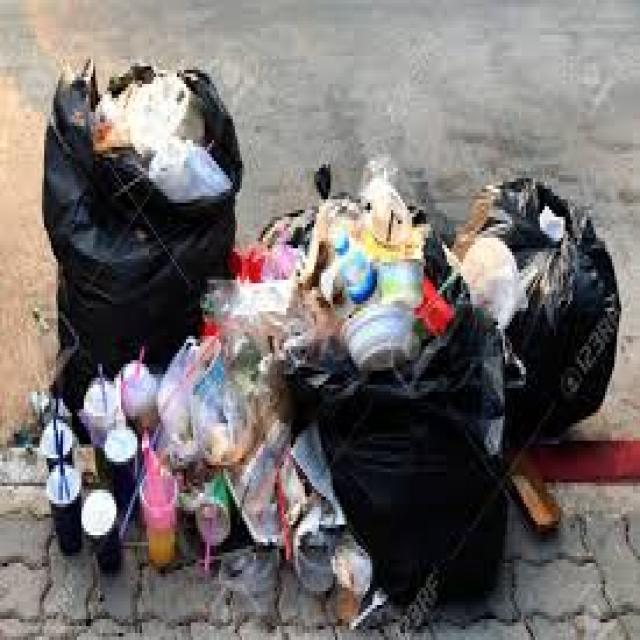plastic_bag: (46, 81, 225, 386), (295, 358, 509, 582), (464, 190, 623, 417)
